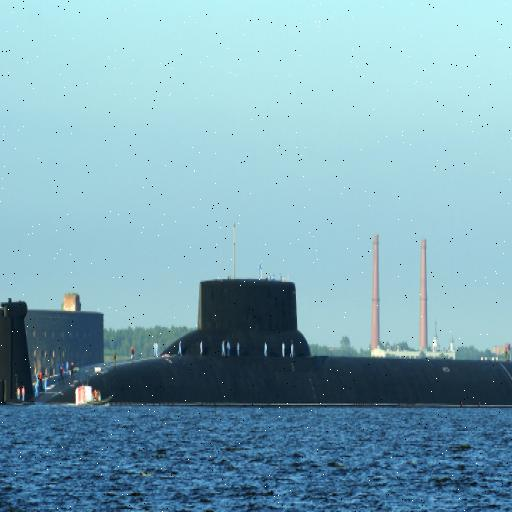submarine: (1, 279, 512, 405)
